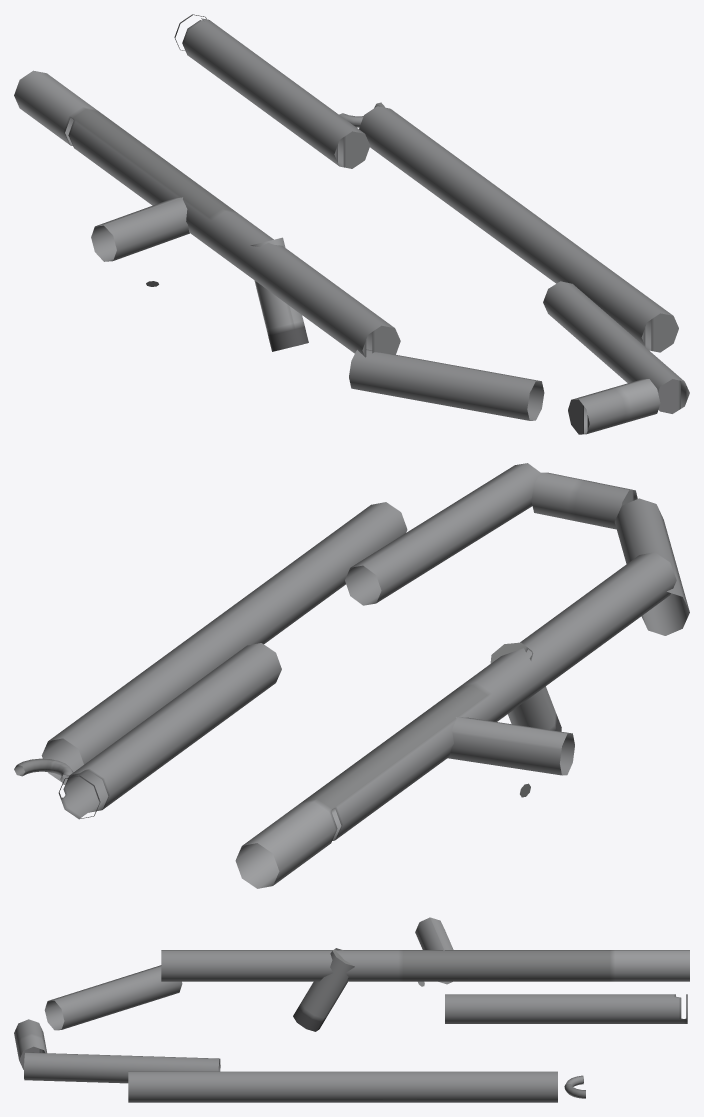
3 views of the same model, one above another, from view 1: azimuth 30°, elevation 25°; view 2: azimuth 150°, elevation 25°; view 3: azimuth 270°, elevation 25° (orthographic). The views are drawn at different scales.
Bounding box in the file's own units: 0.7795 × 0.2326 × 1.56.
